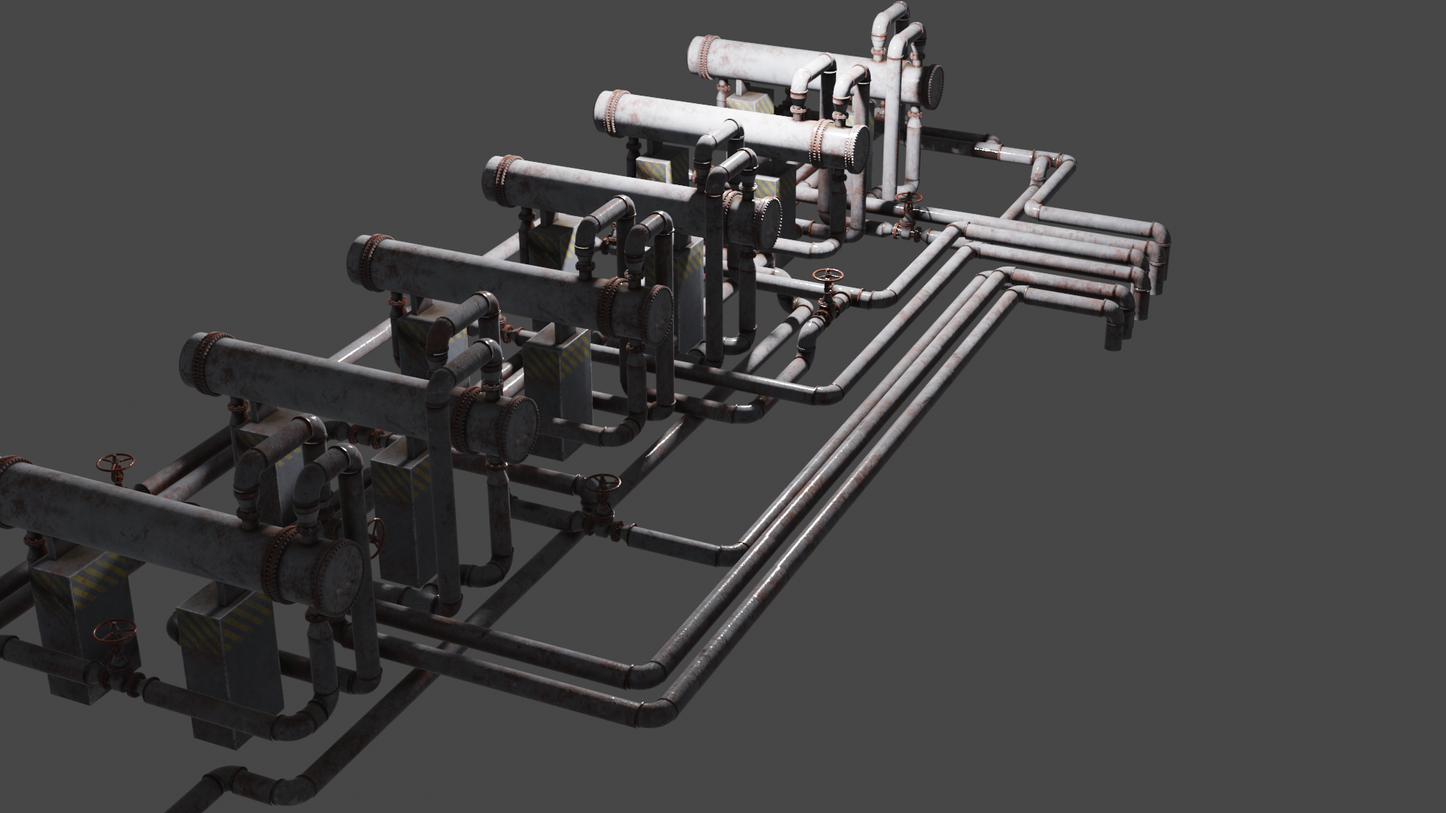HE_1: (0, 450, 363, 616)
HE_2: (171, 330, 543, 468)
HE_3: (346, 228, 671, 341)
HE_4: (470, 151, 784, 249)
HE_5: (592, 91, 872, 179)
HE_6: (684, 31, 946, 115)
